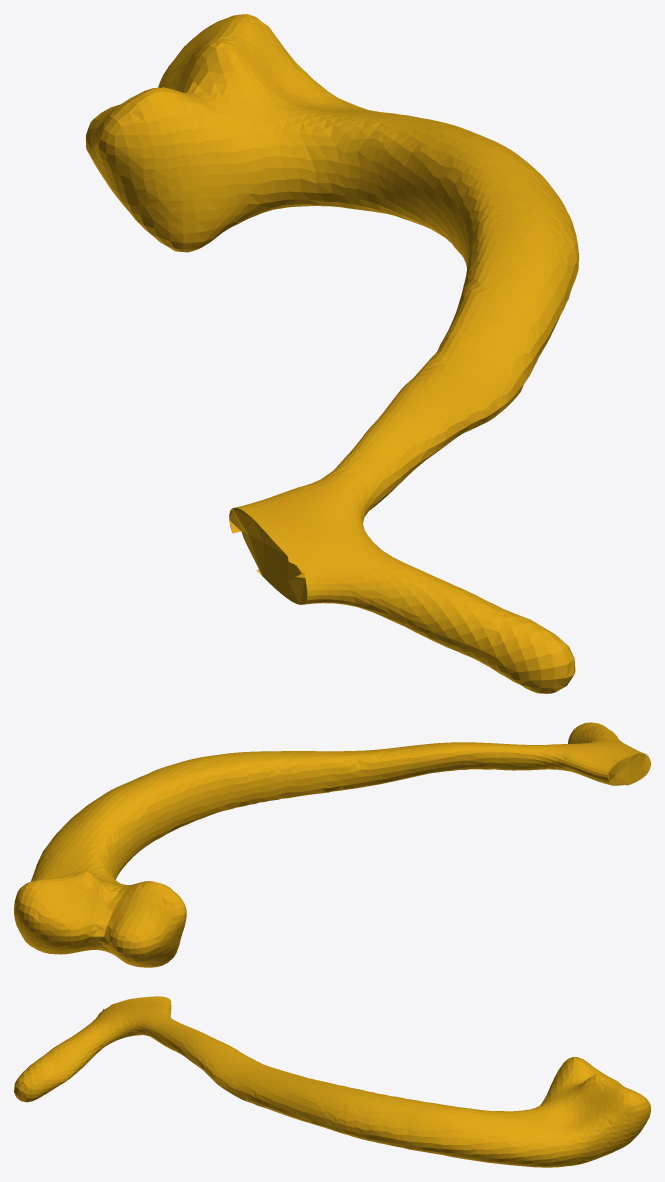
File: Optic_chiasm1.obj
3 views of the same model, one above another, from view 1: azimuth 30°, elevation 25°; view 2: azimuth 150°, elevation 25°; view 3: azimuth 270°, elevation 25° (orthographic). The views are drawn at different scales.
Parts seen in each view (by area): view 1: obj0; view 2: obj0; view 3: obj0.
Part boxes in pixels (x1=…): obj0: x1=85, y1=14, x2=579, y2=693; obj0: x1=14, y1=722, x2=650, y2=967; obj0: x1=14, y1=996, x2=650, y2=1167.
Size of the model in its own units: 12.03 by 3.36 by 22.68.
1 material, 1 textured.
